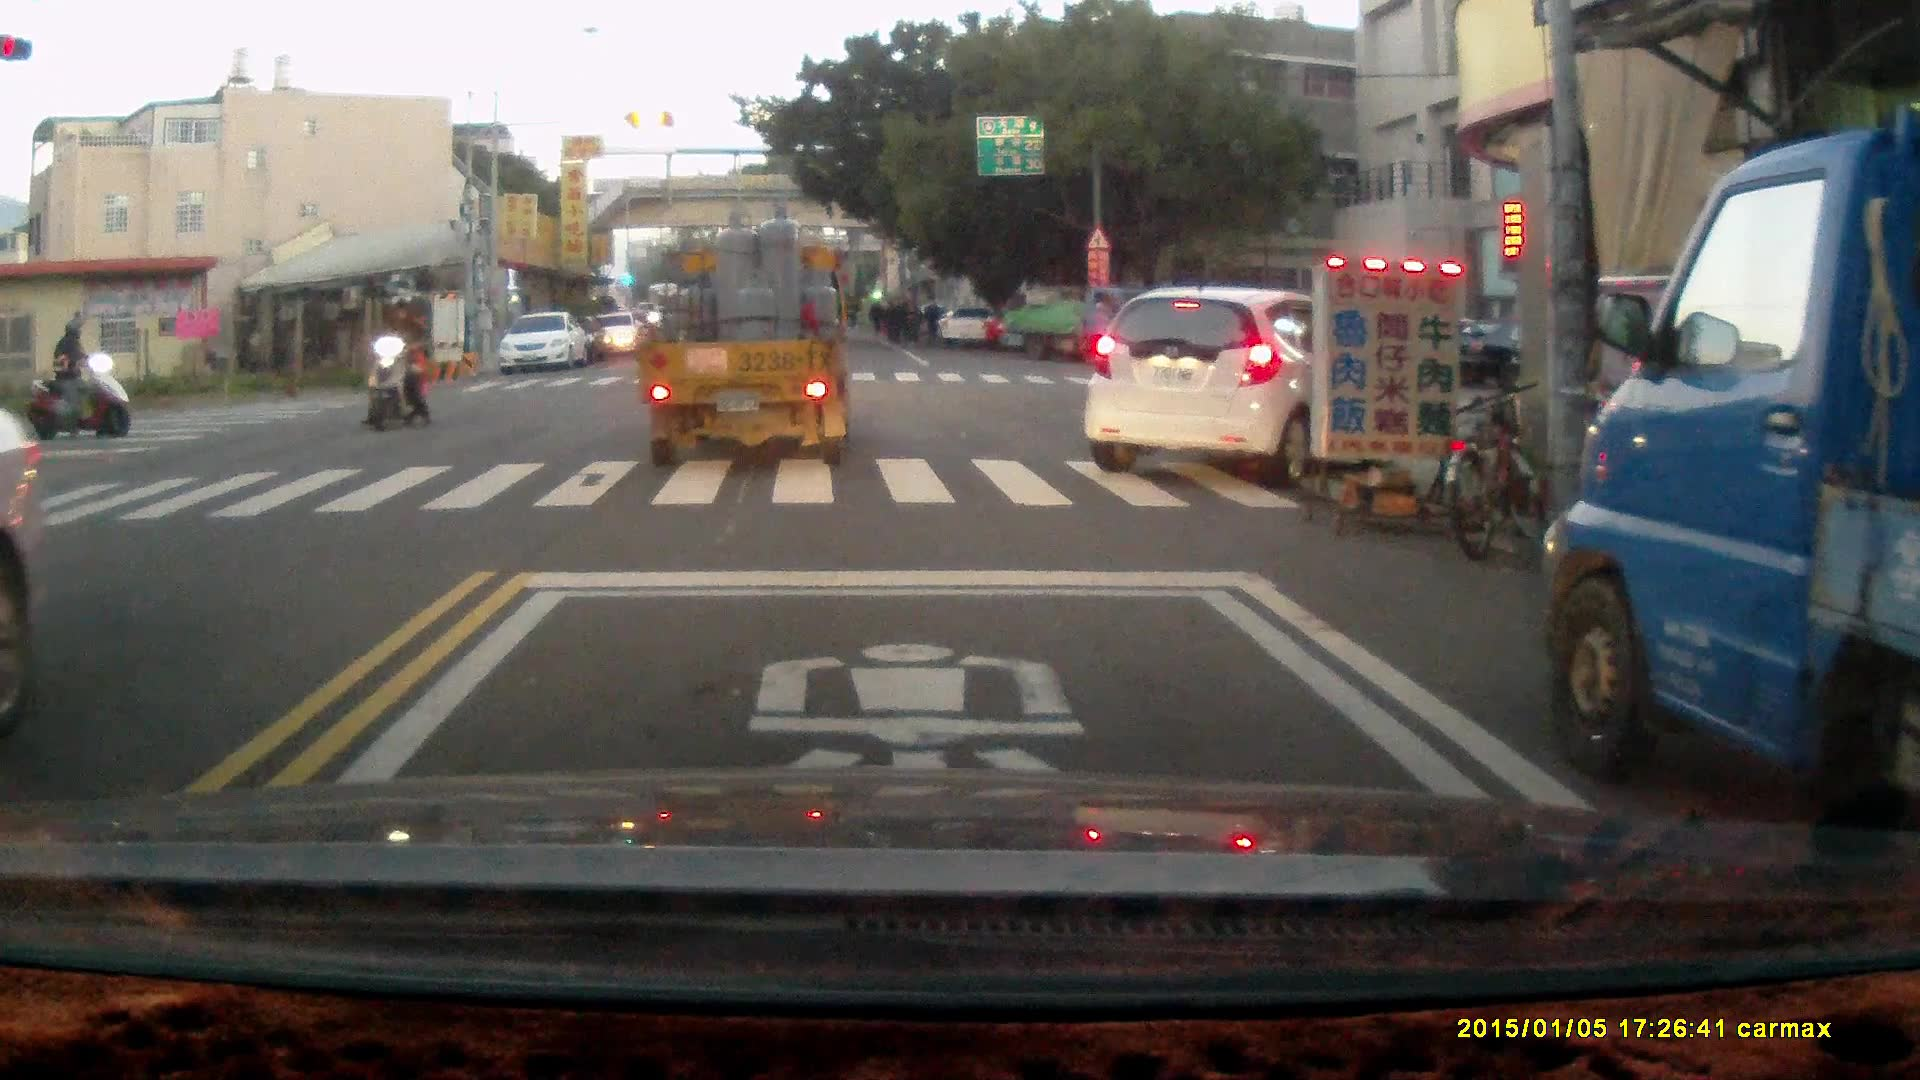rider: (25, 316, 128, 438), (361, 296, 431, 434)
vehicle: (1548, 132, 1920, 823), (1084, 289, 1375, 469), (636, 236, 852, 469), (1002, 284, 1170, 367), (502, 312, 588, 379), (592, 311, 642, 360)
